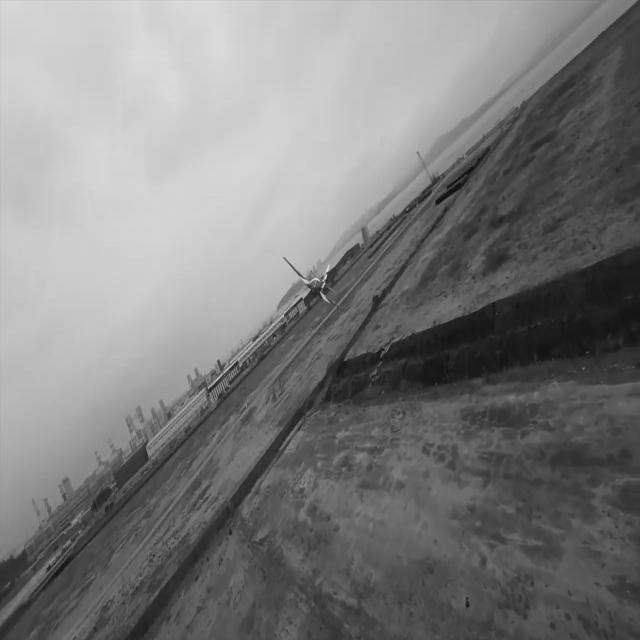iha: (308, 271, 312, 287)
